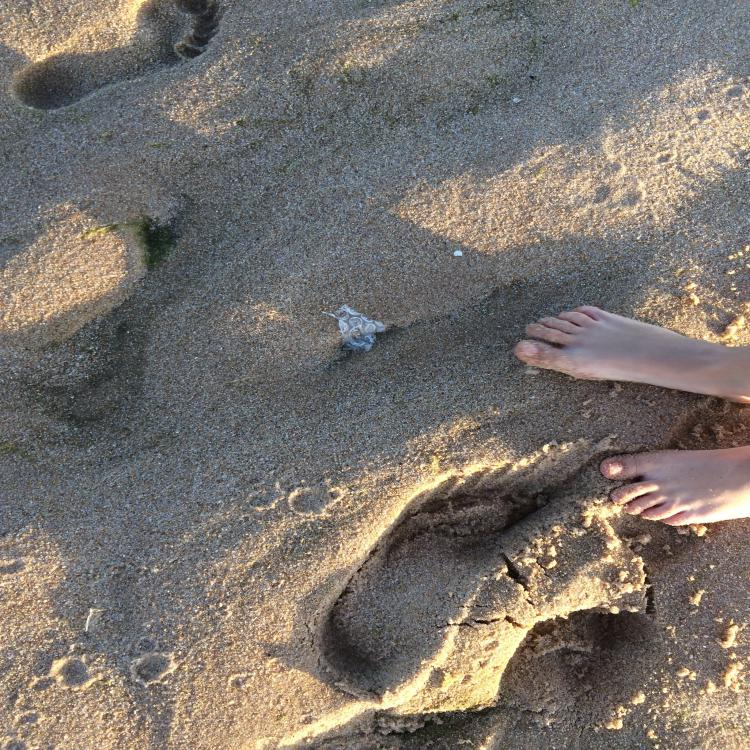Plastic film: (323, 304, 385, 352)
